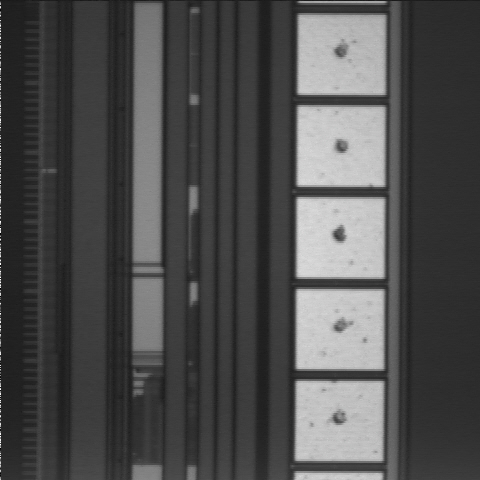pad: (298, 15, 385, 95), (297, 107, 384, 187), (297, 197, 384, 277), (296, 381, 383, 461), (297, 289, 383, 369)
